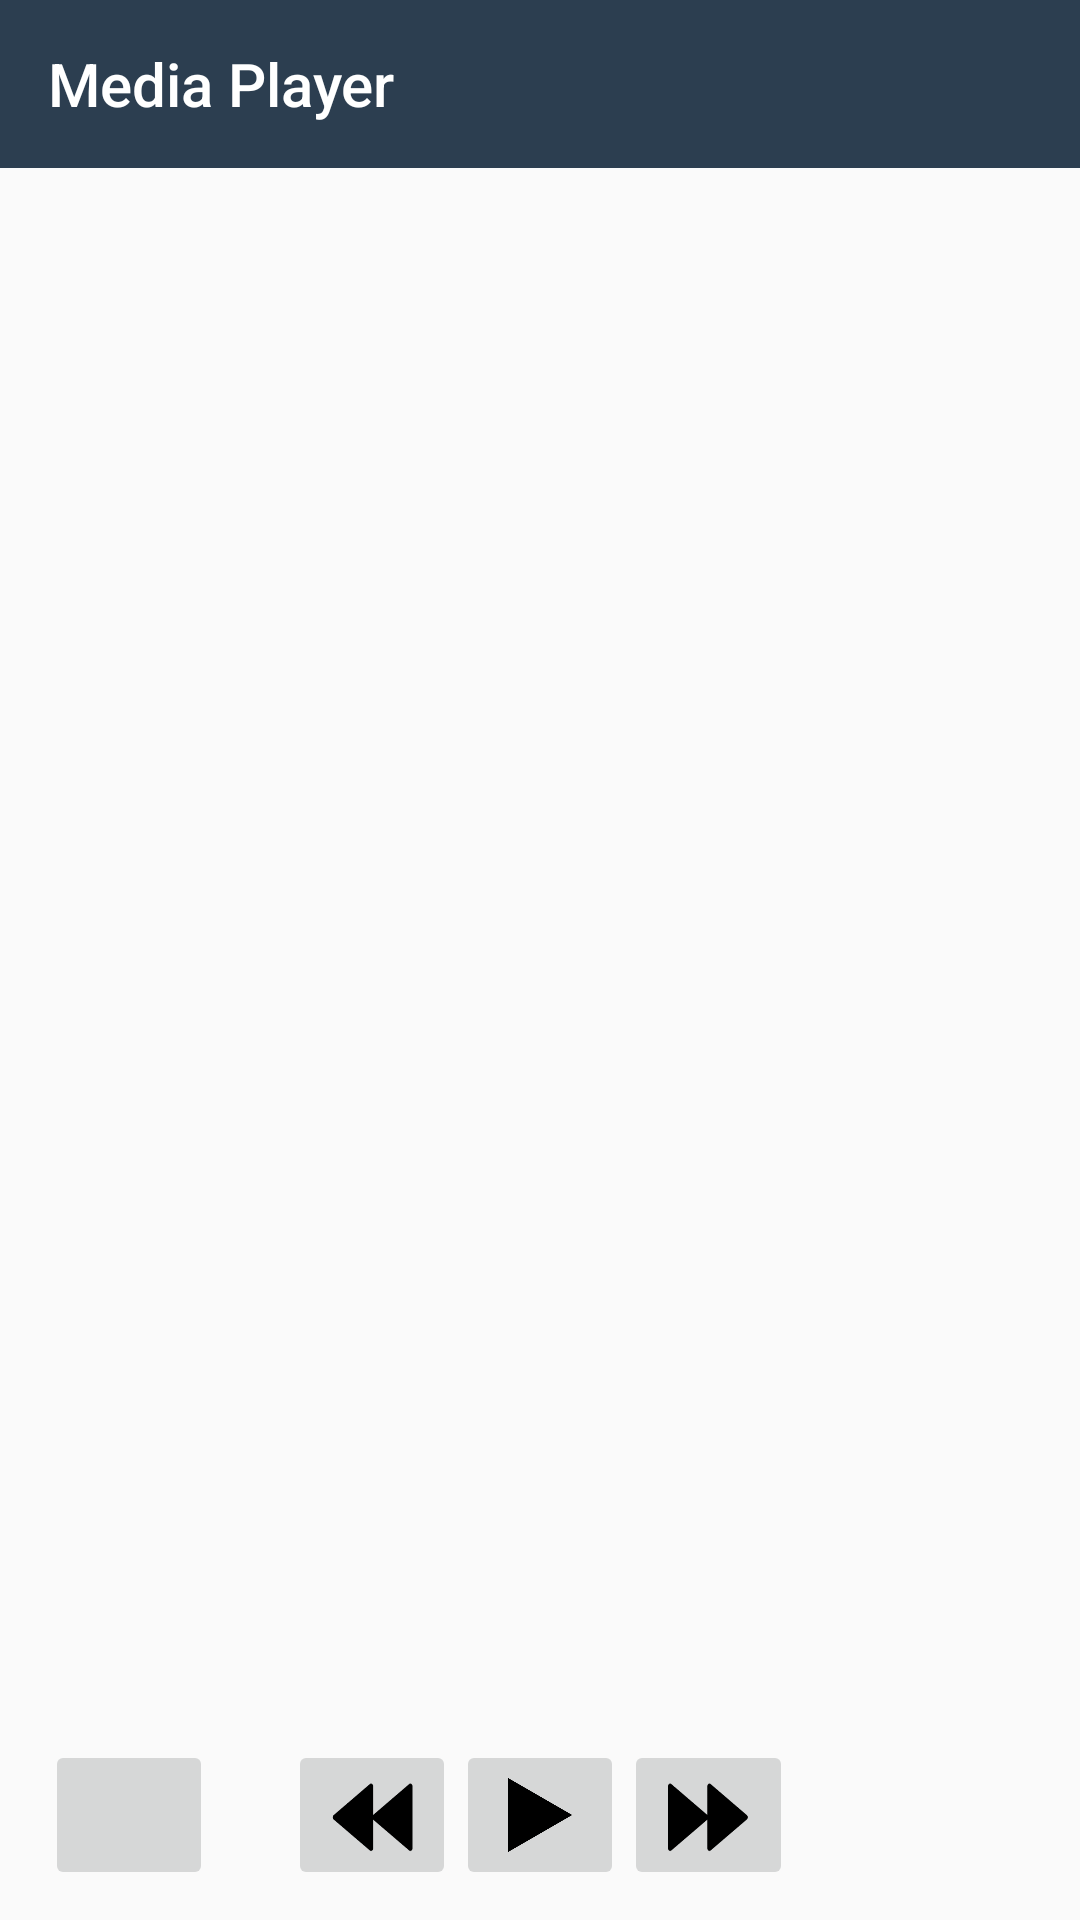

Named icons in this screenshot (1080×1920) and their bounding boxes, detection(x1, y1, x2, y2):
Next song button: detection(636, 1758, 781, 1872)
Play/Pause button: detection(468, 1758, 612, 1872)
Previous song button: detection(300, 1758, 444, 1872)
